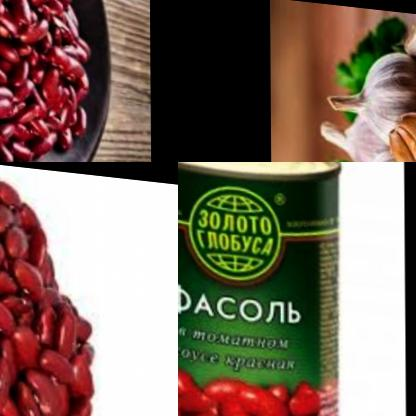fasol: (0, 162, 98, 416), (0, 0, 97, 162), (178, 327, 327, 416)
garlic: (319, 35, 416, 147), (313, 105, 392, 162), (384, 102, 416, 162), (401, 9, 416, 55)
